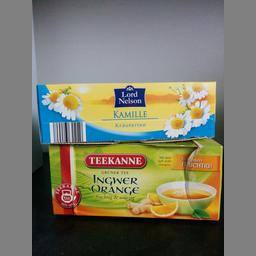tea: (46, 140, 222, 220), (34, 80, 216, 141)
